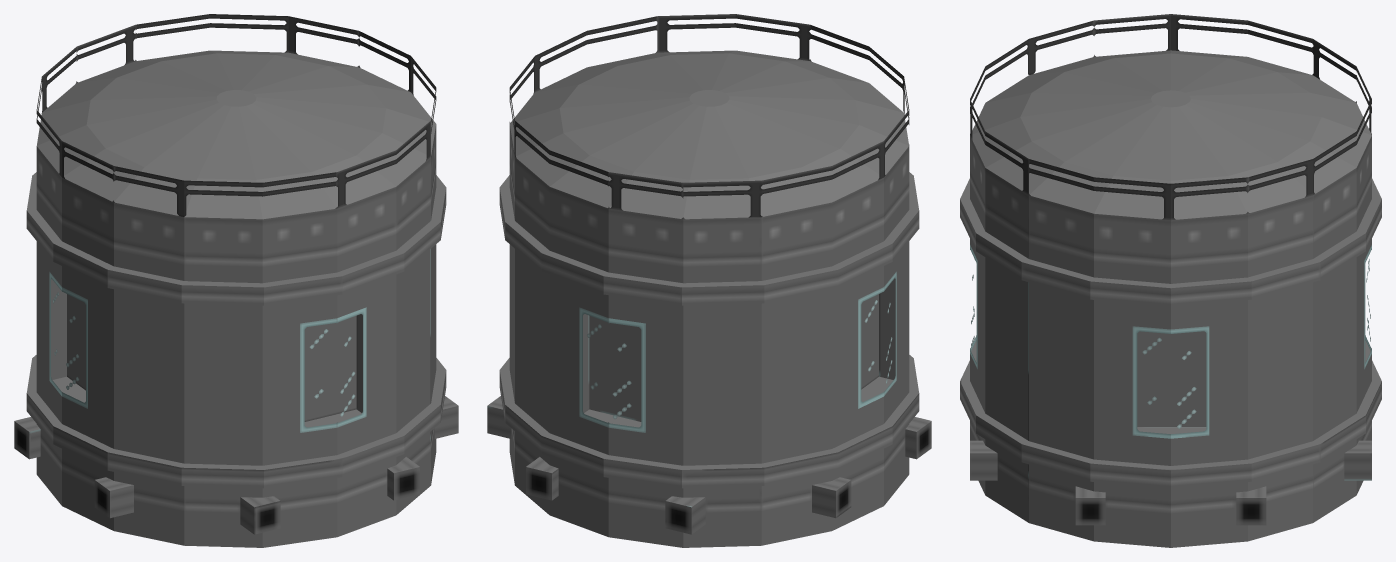
The model's file is water_tank.obj.
3 renders of one model, left to right at view 1: azimuth 30°, elevation 25°; view 2: azimuth 150°, elevation 25°; view 3: azimuth 270°, elevation 25°, orthographic.
Parts seen in each view (by area): view 1: Circle; view 2: Circle; view 3: Circle.
Boxes of the visible parts, x1,y1,x2,y2 form: Circle: (14, 14, 458, 547); Circle: (487, 14, 931, 547); Circle: (960, 14, 1381, 547).
Size of the model in its own units: 5.25 by 5 by 5.25.
